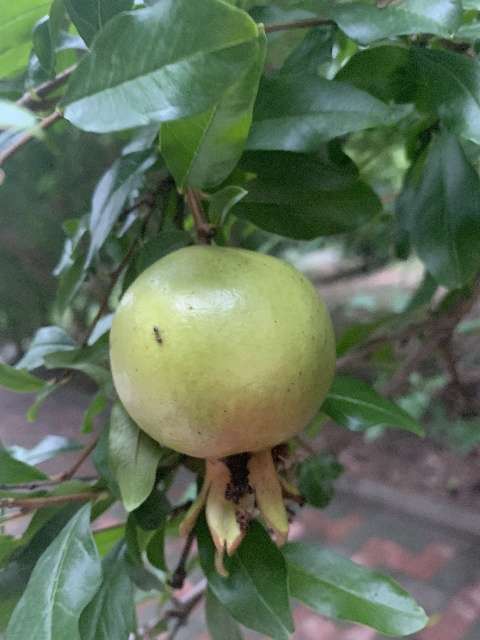mid-growth: (109, 243, 337, 566)
